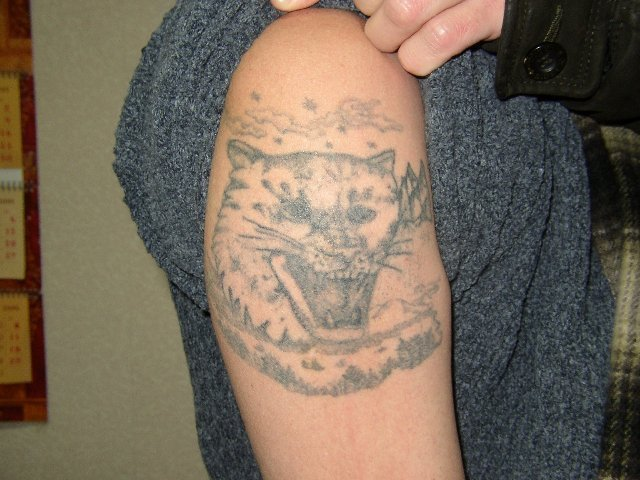tatu5_tigr: (213, 139, 417, 358)
